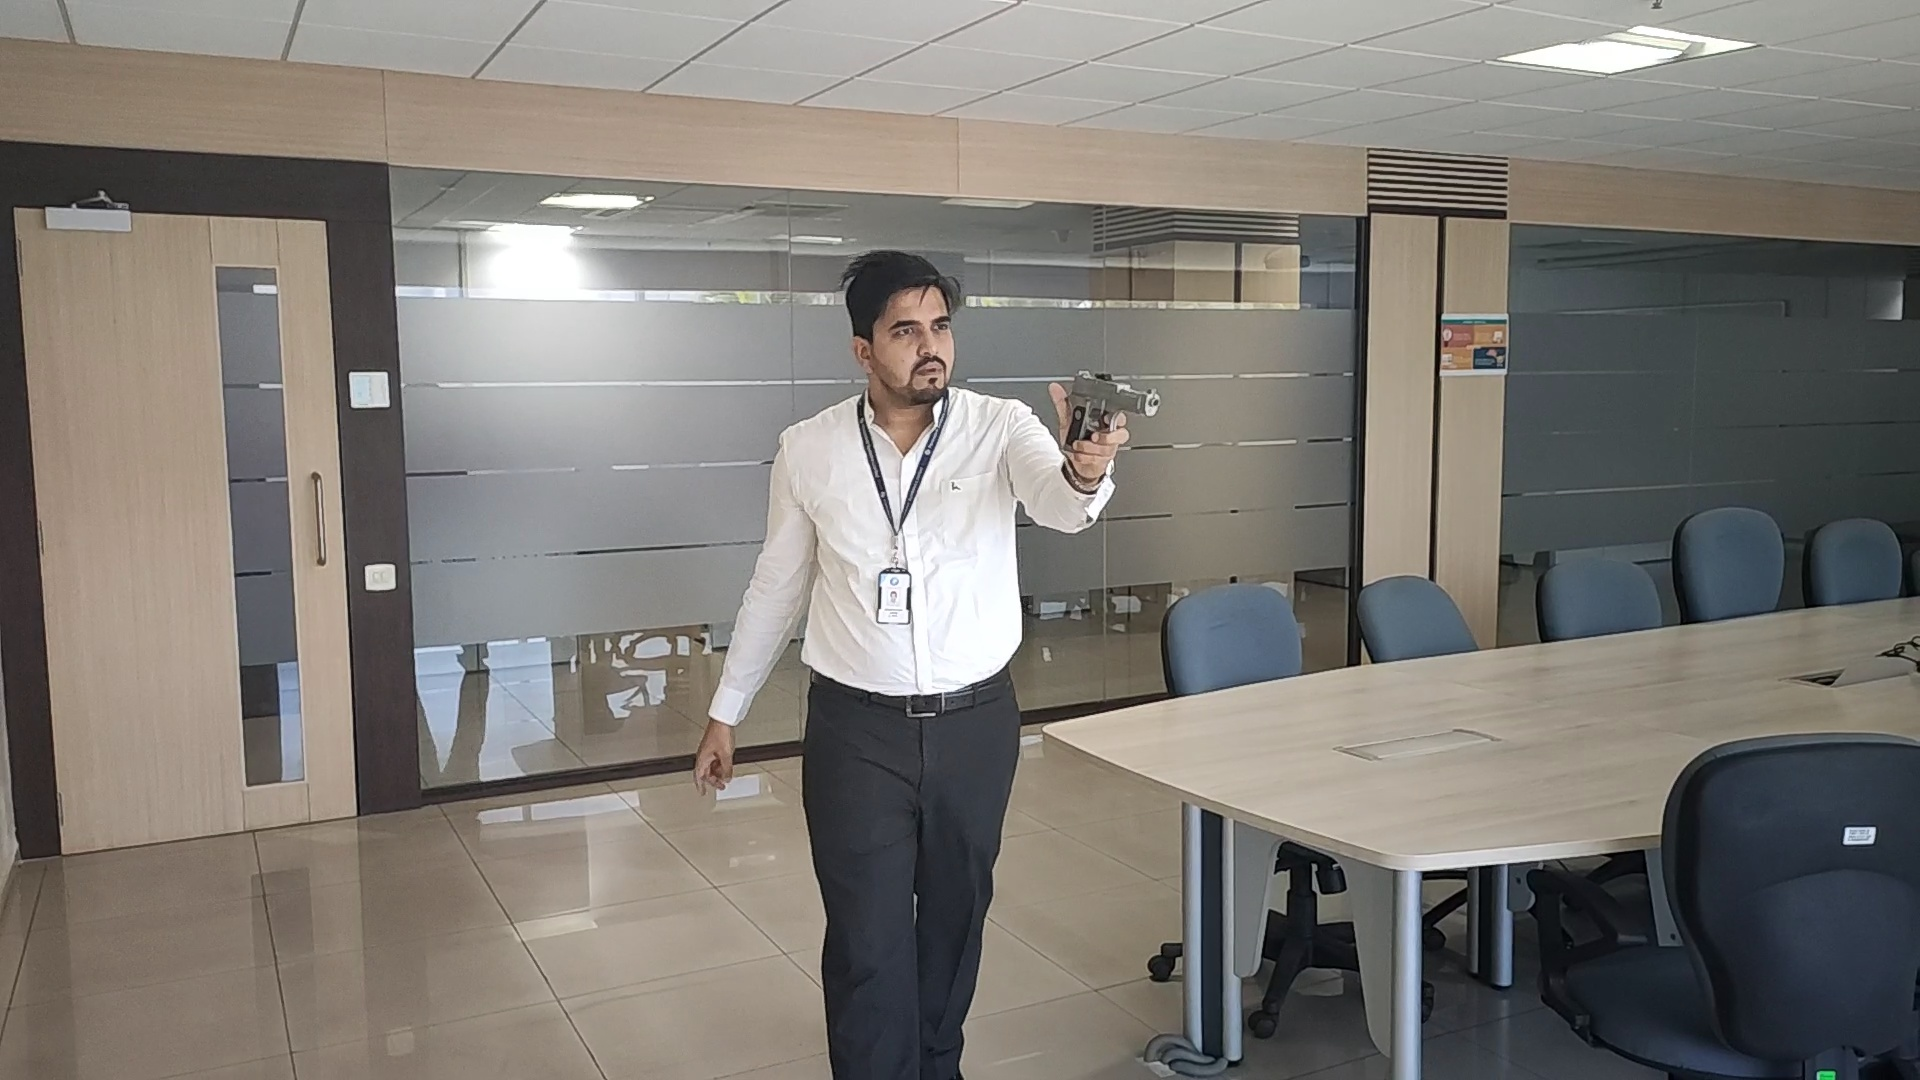gun: (1067, 369, 1162, 444)
